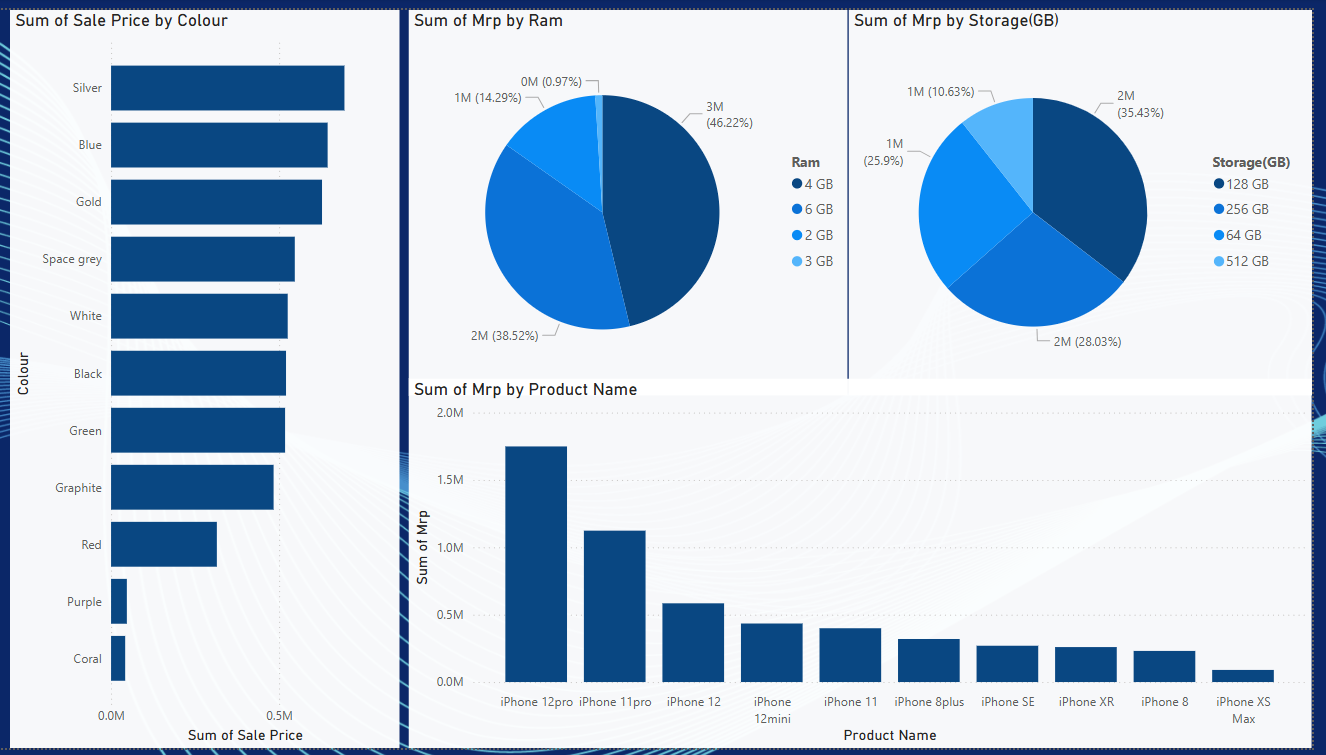

This screenshot's page, from the dashboard's own definition file:
{"tool":"powerbi","page":{"name":"Page 4","canvas":[1280,720],"ordinal":3},"visuals":[{"type":"barChart","fields":{"Category":["apple_products_data.Colour"],"Y":["Sum(apple_products_data.Sale Price)"]},"box":[9.6,0,380.1,720.4],"z":0},{"type":"pieChart","fields":{"Category":["apple_products_data.Ram"],"Y":["Sum(apple_products_data.Mrp)"]},"box":[399.3,0,428.1,376],"z":1000},{"type":"pieChart","fields":{"Category":["apple_products_data.Storage(GB)"],"Y":["Sum(apple_products_data.Mrp)"]},"box":[827.4,0,452.8,376],"z":2000},{"type":"columnChart","fields":{"Category":["apple_products_data.Product Name"],"Y":["Sum(apple_products_data.Mrp)"]},"box":[399.3,359.5,881,360.9],"z":3000}]}

Visuals, with their boxes in screenshot pixels (x1, y1, x2, y2), scaled from the page's 1280x720 canvas onto the 1326x755 screenshot:
barChart - apple_products_data.Colour x Sum(apple_products_data.Sale Price): [10, 0, 404, 754]
pieChart - apple_products_data.Ram x Sum(apple_products_data.Mrp): [414, 0, 857, 394]
pieChart - apple_products_data.Storage(GB) x Sum(apple_products_data.Mrp): [857, 0, 1325, 394]
columnChart - apple_products_data.Product Name x Sum(apple_products_data.Mrp): [414, 377, 1325, 754]
